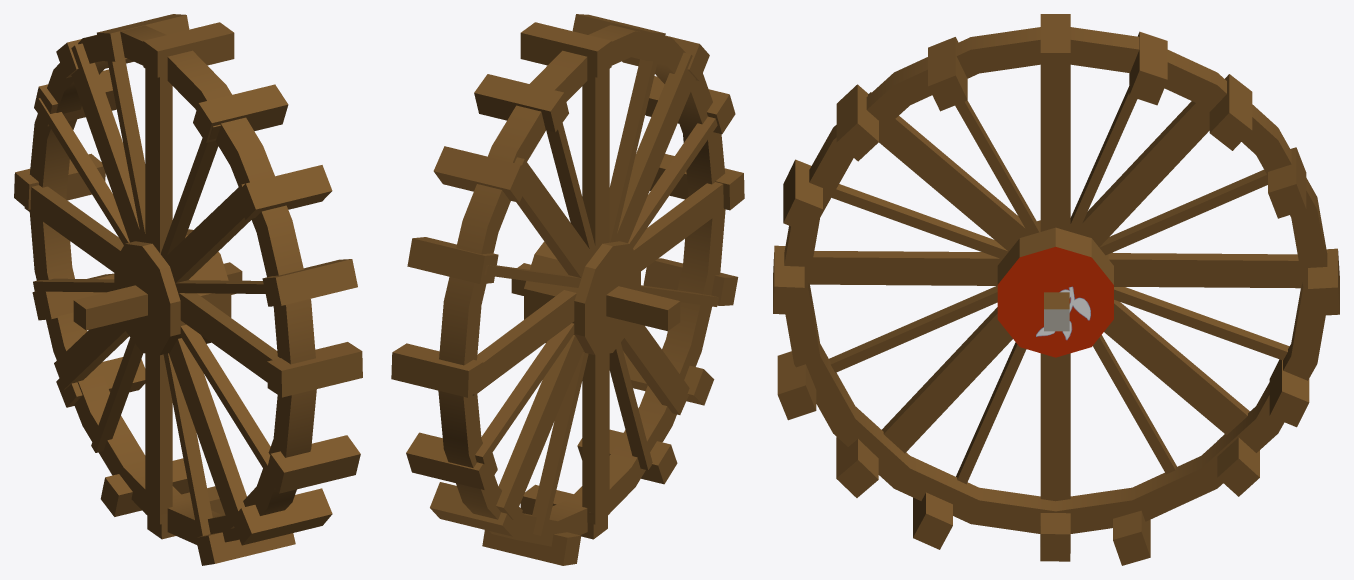
Rendered from noria_wheel.fbx.
3 views of the same model, side by side, from view 1: azimuth 30°, elevation 25°; view 2: azimuth 150°, elevation 25°; view 3: azimuth 270°, elevation 25° (orthographic). The views are drawn at different scales.
Parts seen in each view (by area): view 1: noria:polySurface402; view 2: noria:polySurface402; view 3: noria:polySurface402.
Part boxes in pixels (x1,y1,x2,y2): noria:polySurface402: (14,14,362,565); noria:polySurface402: (391,14,744,565); noria:polySurface402: (773,14,1339,565).
Bounding box in the file's own units: 92.91 × 280 × 281.
1 material, 1 textured.
